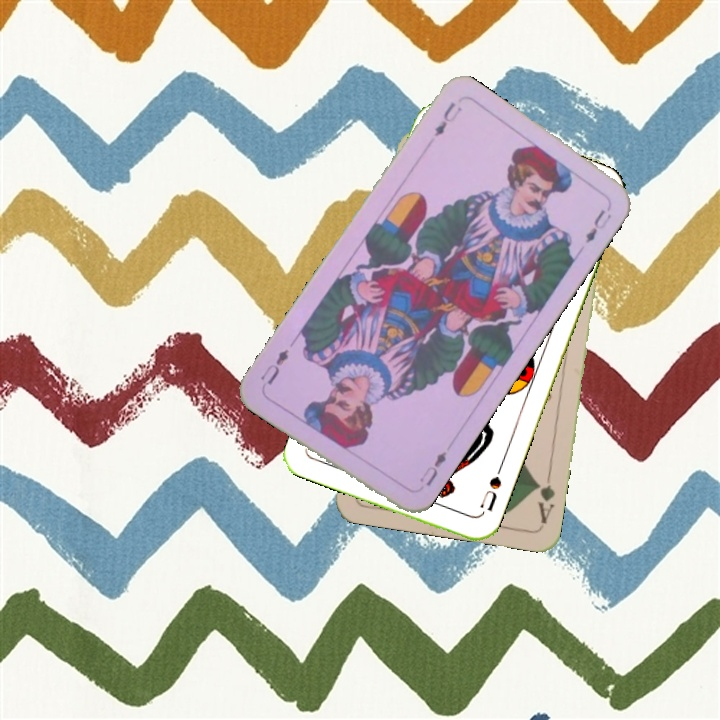EU: (415, 447, 450, 489), (430, 98, 465, 140)
GA: (532, 467, 558, 527)
SU: (476, 462, 505, 514)
